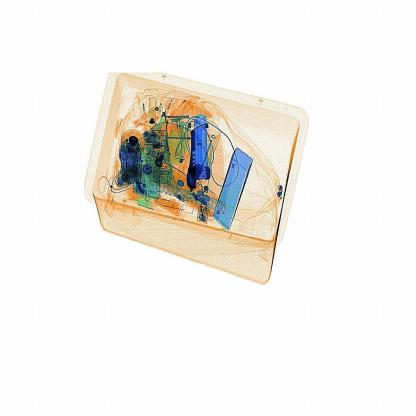pliers: (180, 106, 214, 187)
